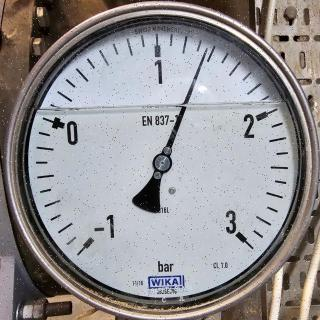gauge: (0, 0, 320, 320), (74, 222, 106, 260), (222, 218, 254, 248), (152, 152, 172, 174), (200, 46, 210, 60)
